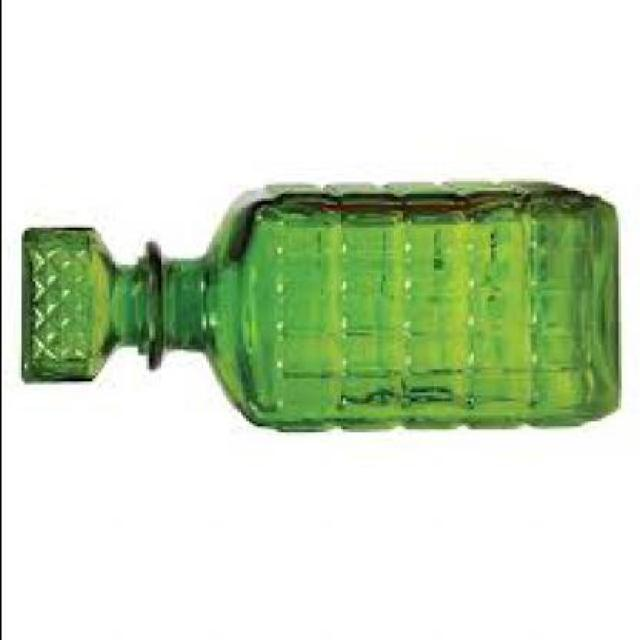GLASS: (17, 177, 614, 435)
